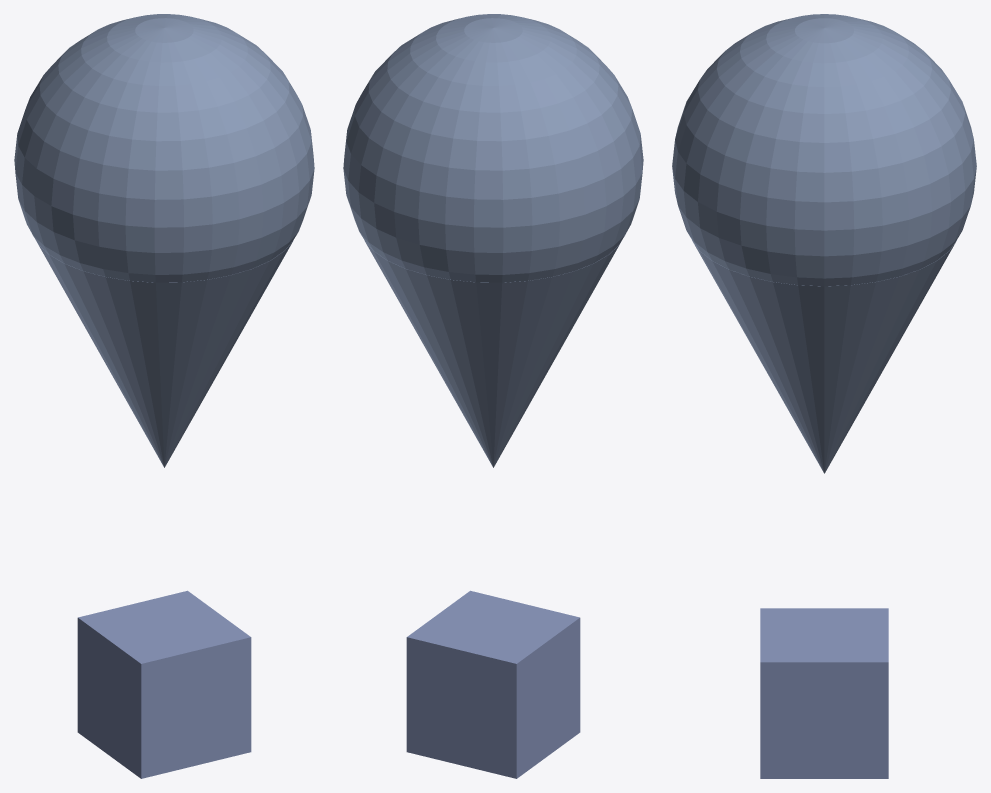
File: Globo.glb
The picture shows the model from 3 angles, left to right: view 1: azimuth 30°, elevation 25°; view 2: azimuth 150°, elevation 25°; view 3: azimuth 270°, elevation 25°; orthographic projection.
Parts seen in each view (by area): view 1: Sphere, Cube, Cone; view 2: Sphere, Cube, Cone; view 3: Sphere, Cone, Cube.
Part boxes in pixels (x1=…): Sphere: x1=14, y1=14, x2=314, y2=282; Cube: x1=77, y1=590, x2=251, y2=778; Cone: x1=37, y1=241, x2=292, y2=467; Sphere: x1=343, y1=14, x2=643, y2=282; Cube: x1=406, y1=590, x2=580, y2=778; Cone: x1=365, y1=241, x2=620, y2=467; Sphere: x1=672, y1=14, x2=976, y2=286; Cone: x1=692, y1=240, x2=956, y2=473; Cube: x1=760, y1=608, x2=888, y2=778.
Size of the model in its own units: 2 by 5.24 by 2.
